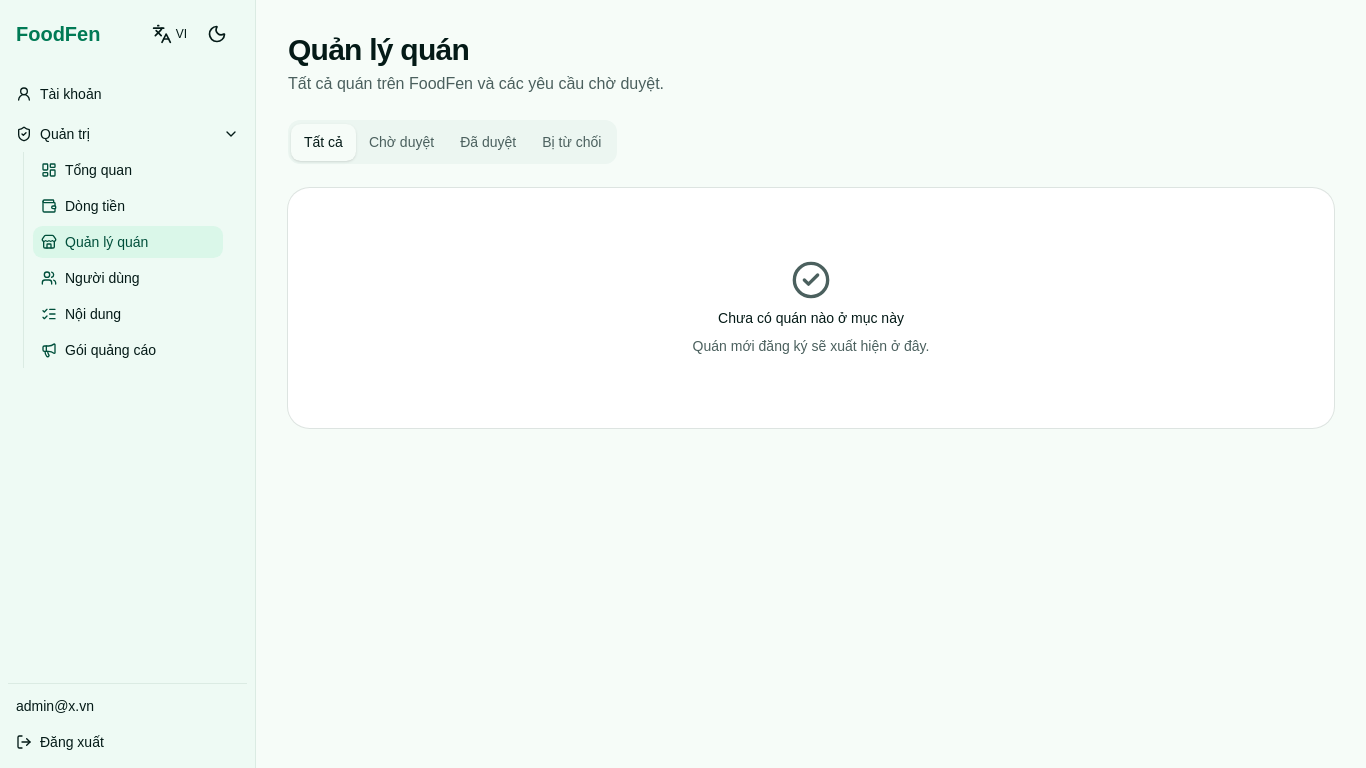
Scenario: the default tab lists every restaurant and the pending tab is a URL search param
The image size is (1366, 768).
Expected: the text "Quán mới đăng ký sẽ xuất hiện ở đây." is shown, [693,336,929,356]
Click the tab "Chờ duyệt" at (402, 142), box [356,124,447,160]
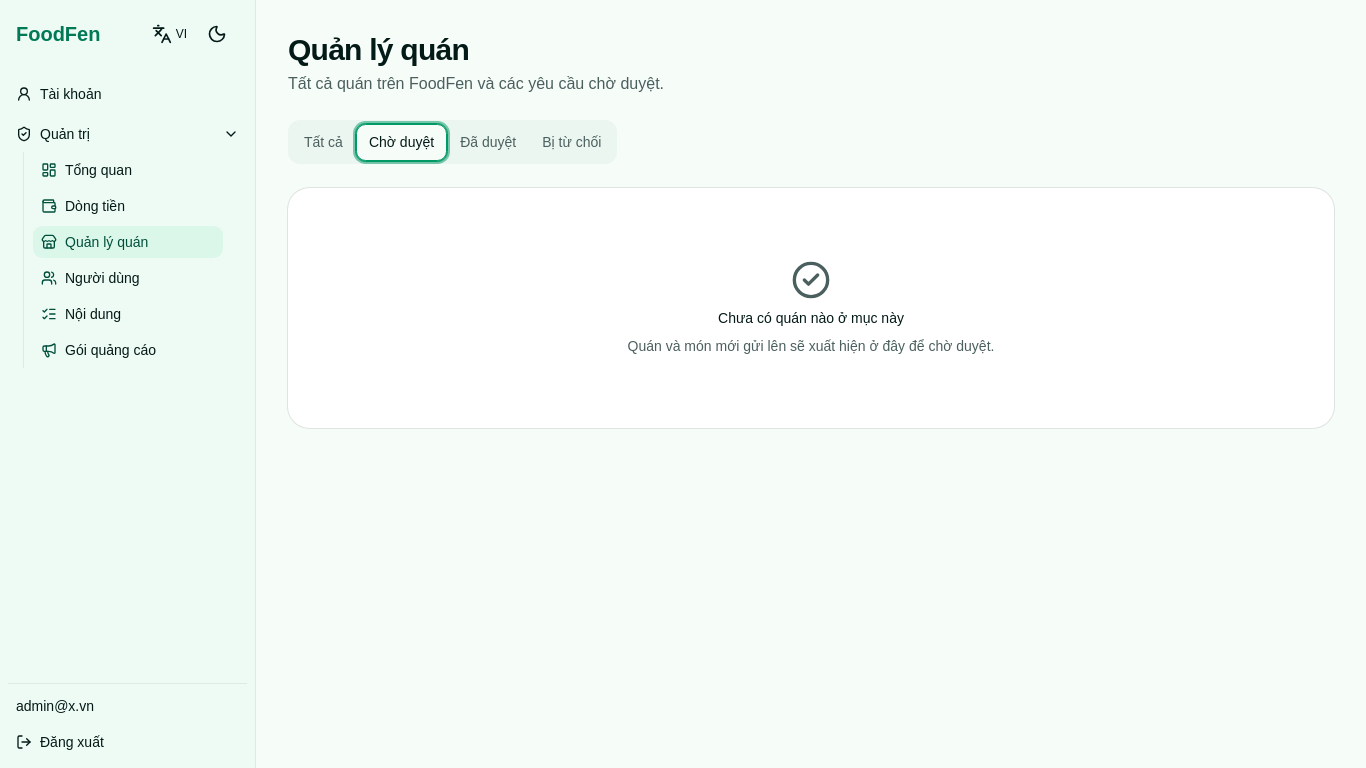
Expected: the text "Quán và món mới gửi lên sẽ xuất hiện ở đây để chờ duyệt." is shown, [628,336,994,356]
